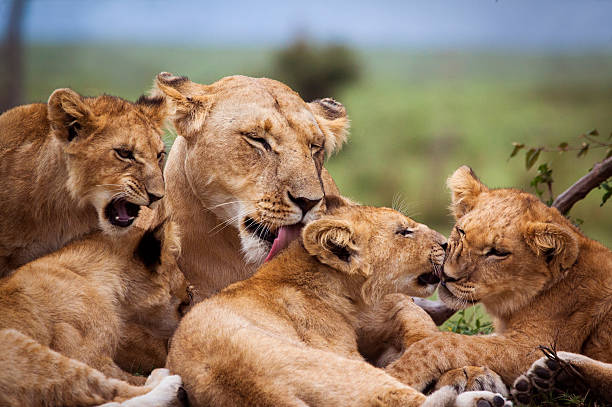lion: (158, 69, 349, 261), (436, 176, 566, 317), (43, 88, 169, 230), (314, 193, 450, 311)
